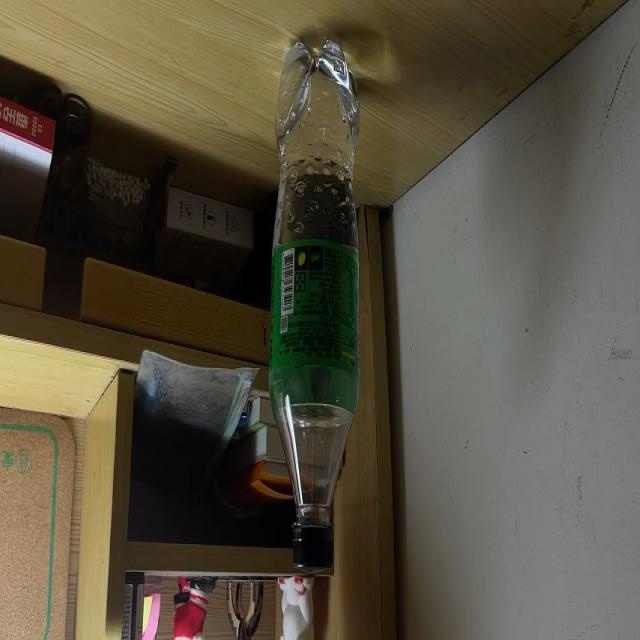Sprite: (271, 35, 363, 579)
